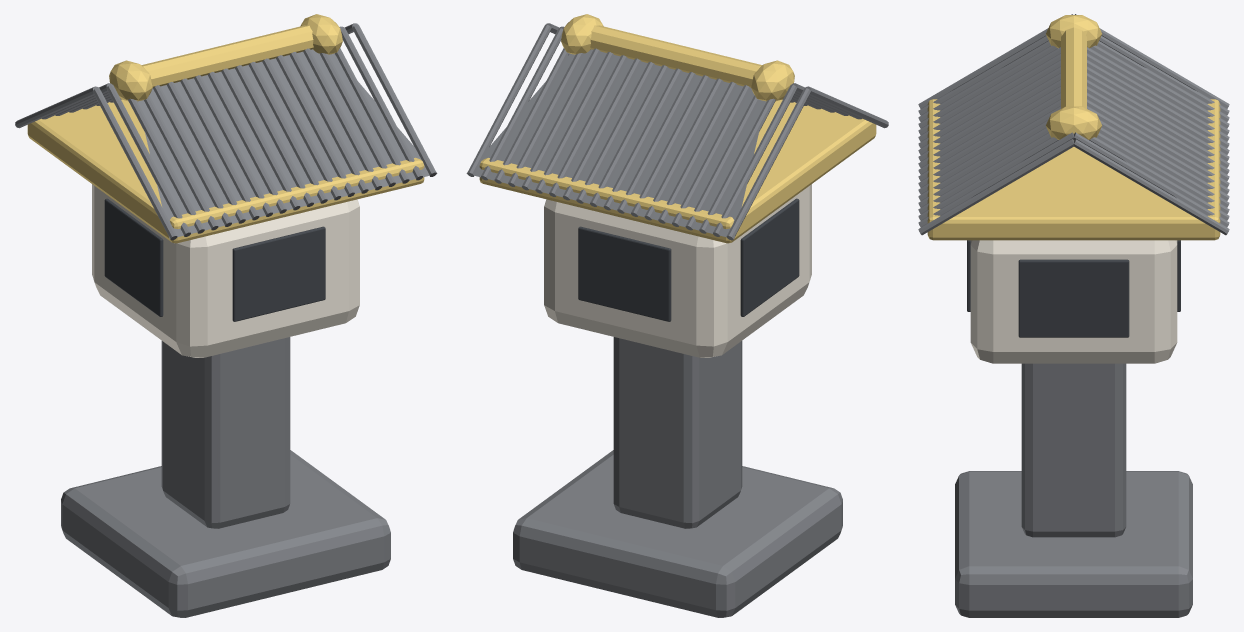
The model's file is ritual_festival_lantern.glb.
3 views of the same model, side by side, from view 1: azimuth 30°, elevation 25°; view 2: azimuth 150°, elevation 25°; view 3: azimuth 270°, elevation 25° (orthographic).
Parts seen in each view (by area): view 1: Stone lantern square plinth, Stone lantern upright pedestal, Carved shrine stone lamp body, Hipped festival lantern cap hipped roof, Hipped festival lantern cap underedge, Open lantern back, Open lantern aperture, Hipped festival lantern cap ridge, Hipped festival lantern cap tile rib_00, Hipped festival lantern cap tile rib_00.038, Hipped festival lantern cap decorative ridge finial, Hipped festival lantern cap tile rib_00.002 (+19 smaller); view 2: Stone lantern square plinth, Stone lantern upright pedestal, Carved shrine stone lamp body, Hipped festival lantern cap hipped roof.001, Hipped festival lantern cap underedge, Open lantern back.001, Open lantern aperture, Hipped festival lantern cap ridge, Hipped festival lantern cap tile rib_00.001, Hipped festival lantern cap tile rib_00.039, Hipped festival lantern cap decorative ridge finial, Hipped festival lantern cap tile rib_00.003 (+19 smaller); view 3: Stone lantern square plinth, Stone lantern upright pedestal, Hipped festival lantern cap underedge, Carved shrine stone lamp body, Open lantern aperture.001, Hipped festival lantern cap hipped roof.001, Hipped festival lantern cap hipped roof, Hipped festival lantern cap ridge, Hipped festival lantern cap decorative ridge finial.001, Hipped festival lantern cap tile rib_00.038, Hipped festival lantern cap tile rib_00.039, Hipped festival lantern cap decorative ridge finial (+38 smaller).
Boxes of the visible parts, <box> form: Stone lantern square plinth: <box>61,450,390,617</box>; Stone lantern upright pedestal: <box>161,337,290,528</box>; Carved shrine stone lamp body: <box>92,184,359,357</box>; Hipped festival lantern cap hipped roof: <box>137,49,437,238</box>; Hipped festival lantern cap underedge: <box>27,99,424,243</box>; Open lantern back: <box>232,226,325,321</box>; Open lantern aperture: <box>104,198,163,316</box>; Hipped festival lantern cap ridge: <box>141,25,313,87</box>; Hipped festival lantern cap tile rib_00: <box>93,88,177,240</box>; Hipped festival lantern cap tile rib_00.038: <box>352,24,436,176</box>; Hipped festival lantern cap decorative ridge finial: <box>109,60,152,101</box>; Hipped festival lantern cap tile rib_00.002: <box>106,84,190,236</box>; Stone lantern square plinth: <box>513,450,842,617</box>; Stone lantern upright pedestal: <box>613,337,742,528</box>; Carved shrine stone lamp body: <box>544,184,811,357</box>; Hipped festival lantern cap hipped roof.001: <box>466,49,766,238</box>; Hipped festival lantern cap underedge: <box>479,99,876,243</box>; Open lantern back.001: <box>578,226,671,321</box>; Open lantern aperture: <box>740,198,799,316</box>; Hipped festival lantern cap ridge: <box>590,25,762,87</box>; Hipped festival lantern cap tile rib_00.001: <box>726,88,810,240</box>; Hipped festival lantern cap tile rib_00.039: <box>467,24,551,176</box>; Hipped festival lantern cap decorative ridge finial: <box>751,60,794,101</box>; Hipped festival lantern cap tile rib_00.003: <box>713,84,797,236</box>; Stone lantern square plinth: <box>955,471,1192,617</box>; Stone lantern upright pedestal: <box>1021,363,1126,537</box>; Hipped festival lantern cap underedge: <box>927,99,1220,240</box>; Carved shrine stone lamp body: <box>970,240,1177,363</box>; Open lantern aperture.001: <box>1018,259,1129,337</box>; Hipped festival lantern cap hipped roof.001: <box>1087,46,1227,233</box>; Hipped festival lantern cap hipped roof: <box>920,46,1060,233</box>; Hipped festival lantern cap ridge: <box>1061,27,1086,108</box>; Hipped festival lantern cap decorative ridge finial.001: <box>1045,106,1102,139</box>; Hipped festival lantern cap tile rib_00.038: <box>918,139,1073,235</box>; Hipped festival lantern cap tile rib_00.039: <box>1074,139,1229,235</box>; Hipped festival lantern cap decorative ridge finial: <box>1046,15,1101,48</box>.
Bounding box in the file's own units: 1.06 × 1.95 × 1.08.
